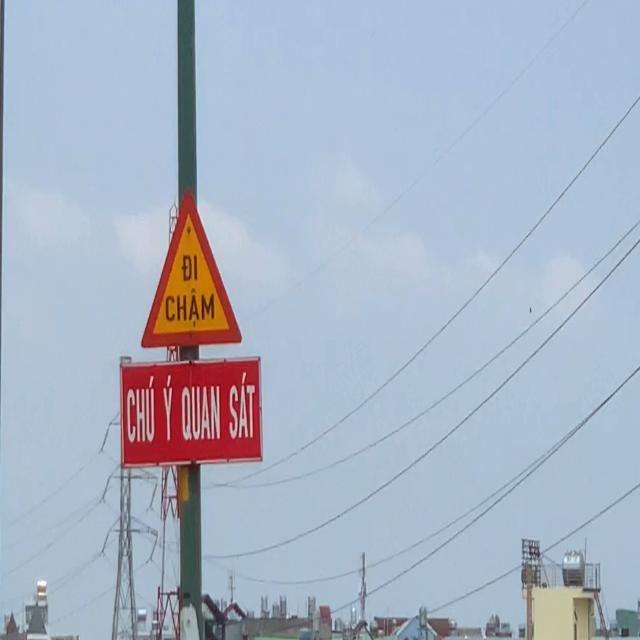Nguy hiem: (140, 185, 242, 351)
